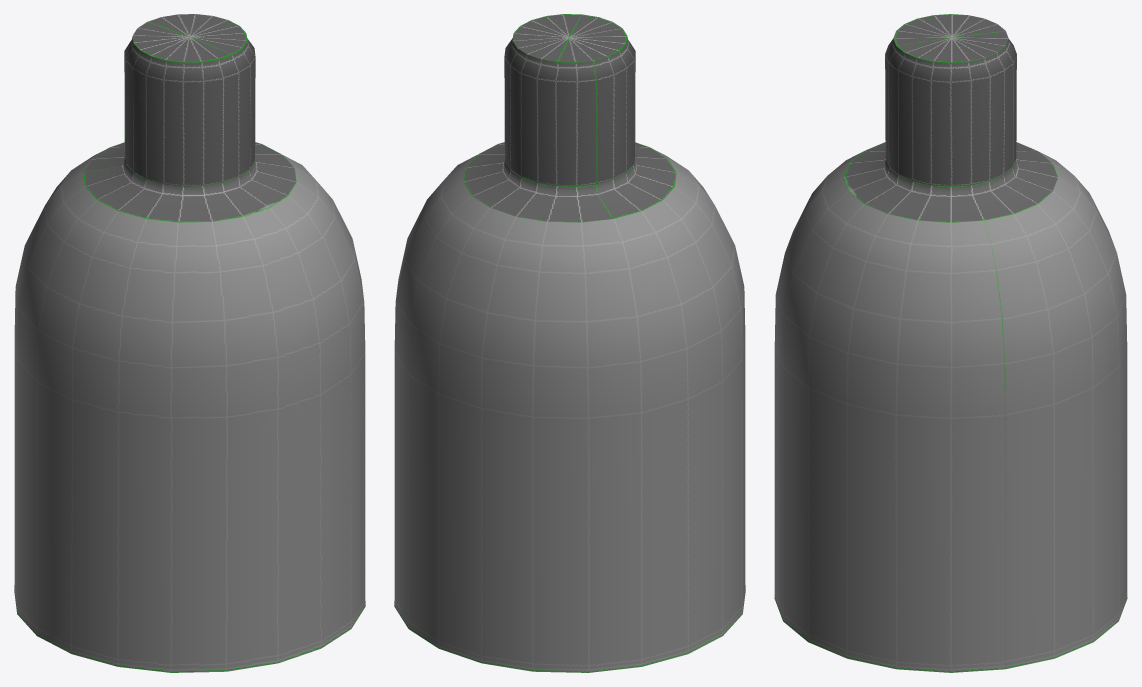
The model's file is nature.glb.
3 renders of one model, left to right at view 1: azimuth 30°, elevation 25°; view 2: azimuth 150°, elevation 25°; view 3: azimuth 270°, elevation 25°, orthographic.
Visible parts, largest first — view 1: pCylinder002; view 2: pCylinder002; view 3: pCylinder002.
Part boxes in pixels (box(x1,y1,x2,y2)): pCylinder002: box(14, 14, 365, 672); pCylinder002: box(394, 14, 745, 672); pCylinder002: box(774, 14, 1127, 672).
Bounding box in the file's own units: 0.0115 × 0.0201 × 0.0115.
Materials: 1 (1 with a texture image).
